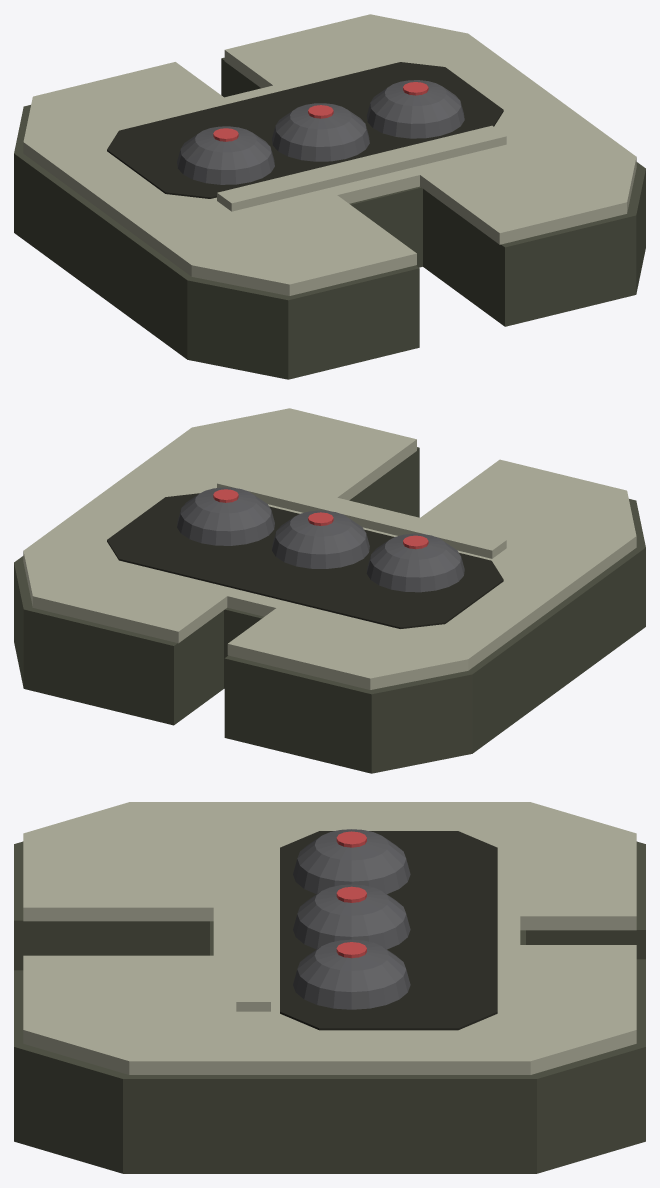
Rendered from vge_mech_resource_processor.obj.
3 renders of one model, top to bottom at view 1: azimuth 30°, elevation 25°; view 2: azimuth 150°, elevation 25°; view 3: azimuth 270°, elevation 25°, orthographic. The views are drawn at different scales.
Parts seen in each view (by area): view 1: vge_mech_resource_processor_1, vge_mech_resource_processor_0, vge_mech_resource_processor_2, vge_mech_resource_processor_9, vge_mech_resource_processor_3, vge_mech_resource_processor_7, vge_mech_resource_processor_5; view 2: vge_mech_resource_processor_1, vge_mech_resource_processor_0, vge_mech_resource_processor_2, vge_mech_resource_processor_9, vge_mech_resource_processor_7, vge_mech_resource_processor_5, vge_mech_resource_processor_3; view 3: vge_mech_resource_processor_1, vge_mech_resource_processor_0, vge_mech_resource_processor_2, vge_mech_resource_processor_7, vge_mech_resource_processor_9, vge_mech_resource_processor_5, vge_mech_resource_processor_3.
Boxes of the visible parts, box(x1,y1,x2,y2) form: vge_mech_resource_processor_1: box(23, 14, 636, 295); vge_mech_resource_processor_0: box(14, 57, 645, 379); vge_mech_resource_processor_2: box(107, 62, 503, 198); vge_mech_resource_processor_9: box(217, 125, 506, 211); vge_mech_resource_processor_3: box(177, 126, 274, 184); vge_mech_resource_processor_7: box(366, 80, 464, 138); vge_mech_resource_processor_5: box(272, 103, 369, 161); vge_mech_resource_processor_1: box(23, 408, 636, 689); vge_mech_resource_processor_0: box(14, 447, 645, 773); vge_mech_resource_processor_2: box(107, 493, 503, 628); vge_mech_resource_processor_9: box(217, 473, 506, 558); vge_mech_resource_processor_7: box(177, 487, 274, 545); vge_mech_resource_processor_5: box(272, 510, 369, 568); vge_mech_resource_processor_3: box(366, 533, 464, 592); vge_mech_resource_processor_1: box(23, 802, 636, 1074); vge_mech_resource_processor_0: box(14, 841, 645, 1173); vge_mech_resource_processor_2: box(280, 831, 497, 1030); vge_mech_resource_processor_7: box(293, 939, 410, 1009); vge_mech_resource_processor_9: box(236, 841, 270, 1011); vge_mech_resource_processor_5: box(293, 884, 410, 949); vge_mech_resource_processor_3: box(293, 829, 410, 894).
Size of the model in its own units: 2.9 by 0.745 by 2.9.
